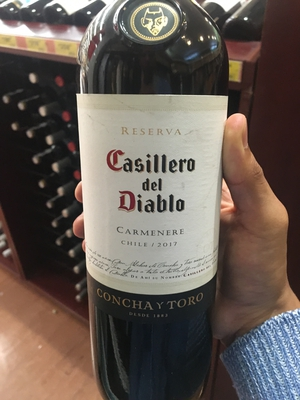casillero del diablo carmenere: (60, 28, 242, 380)
